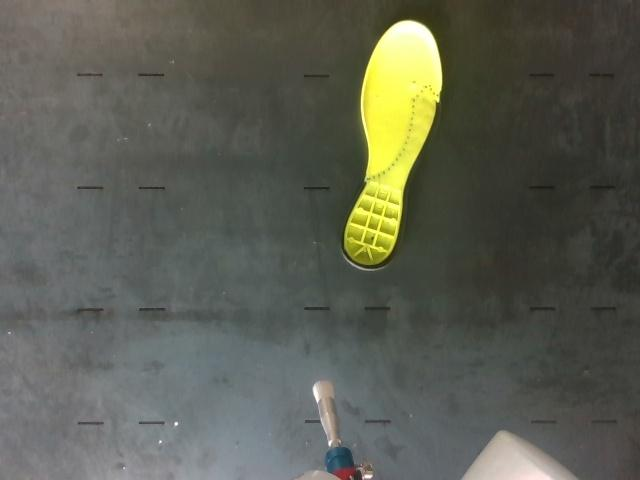shoes: (343, 20, 442, 269)
